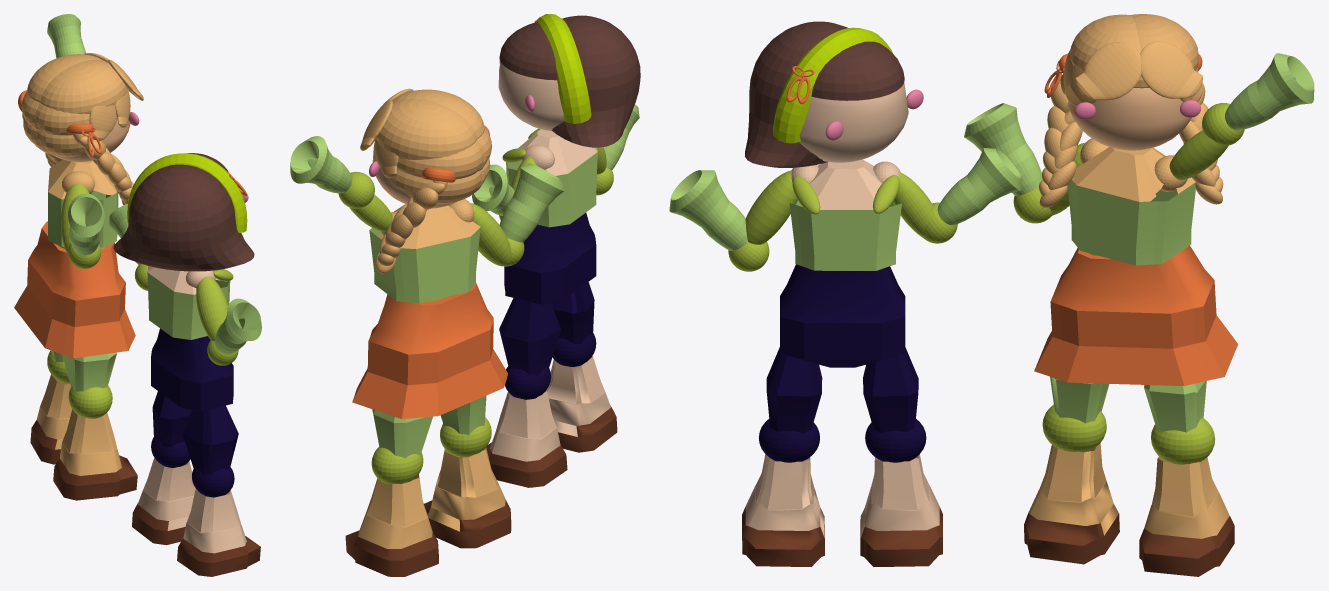
File: these 2 are so cute!.fbx
3 renders of one model, left to right at view 1: azimuth 30°, elevation 25°; view 2: azimuth 150°, elevation 25°; view 3: azimuth 270°, elevation 25°, orthographic. The views are drawn at different scales.
Parts seen in each view (by area): view 1: Sphere.147, trousers.011, Cube.031, trousers.009, Cube.042, Sphere.177, Cube.032, Cube.034, Cube.040, Cube.036, Sphere.173, Torus.009 (+20 smaller); view 2: trousers.011, Cube.042, Cube.031, Sphere.147, trousers.009, Sphere.177, Cube.032, Cube.039, Cube.040, Cube.034, Sphere.173, Cube.041 (+21 smaller); view 3: trousers.011, trousers.009, Cube.042, Cube.031, Cube.039, Cube.032, Cube.040, Cube.036, Sphere.147, Cube.034, Sphere.144, Sphere.176 (+22 smaller).
Boxes of the visible parts, x1,y1,x2,y2 form: Sphere.147: (113, 164, 254, 271); trousers.011: (14, 221, 135, 358); Cube.031: (137, 458, 246, 553); trousers.009: (151, 328, 233, 411); Cube.042: (37, 374, 121, 475); Sphere.177: (27, 54, 127, 114); Cube.032: (152, 391, 238, 475); Cube.034: (132, 502, 260, 576); Cube.040: (30, 420, 137, 500); Cube.036: (147, 272, 230, 339); Sphere.173: (21, 91, 89, 157); Torus.009: (127, 153, 247, 232); trousers.011: (352, 283, 507, 418); Cube.042: (358, 447, 505, 548); Cube.031: (490, 356, 610, 461); Sphere.147: (551, 15, 640, 147); trousers.009: (504, 212, 596, 304); Sphere.177: (376, 89, 484, 159); Cube.032: (499, 282, 594, 375); Cube.039: (369, 227, 480, 303); Cube.040: (345, 500, 511, 576); Cube.034: (486, 406, 617, 487); Sphere.173: (389, 127, 491, 204); Cube.041: (372, 395, 486, 458); trousers.011: (1034, 245, 1237, 385); trousers.009: (780, 264, 905, 367); Cube.042: (1028, 443, 1229, 538); Cube.031: (745, 454, 939, 537); Cube.039: (1067, 177, 1195, 265); Cube.032: (766, 347, 918, 433); Cube.040: (1024, 513, 1234, 576); Cube.036: (789, 197, 902, 270); Sphere.147: (745, 21, 848, 167); Cube.034: (742, 507, 942, 566); Sphere.144: (799, 83, 908, 162); Sphere.176: (1075, 41, 1202, 100).
Bounding box in the file's own units: 228 × 693 × 771.
